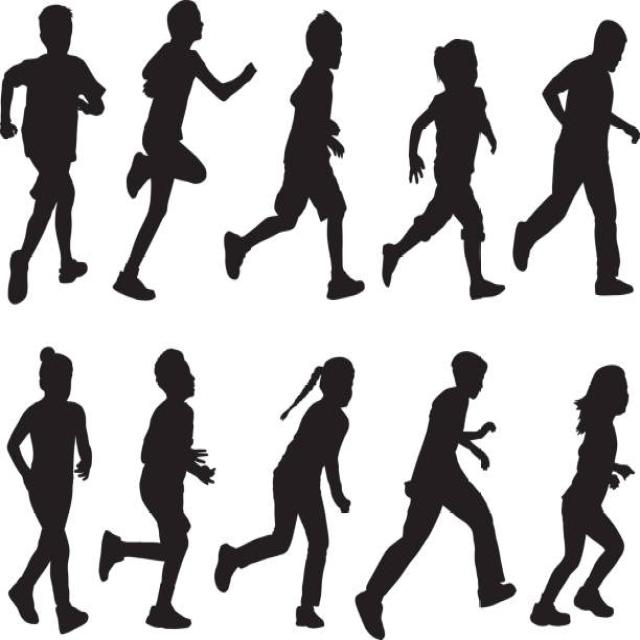Person: (356, 350, 516, 640), (111, 2, 257, 300), (223, 9, 364, 301), (216, 356, 353, 628), (513, 19, 640, 297), (97, 348, 214, 630), (380, 38, 504, 299), (2, 4, 106, 304), (529, 366, 635, 624), (5, 346, 92, 635)
